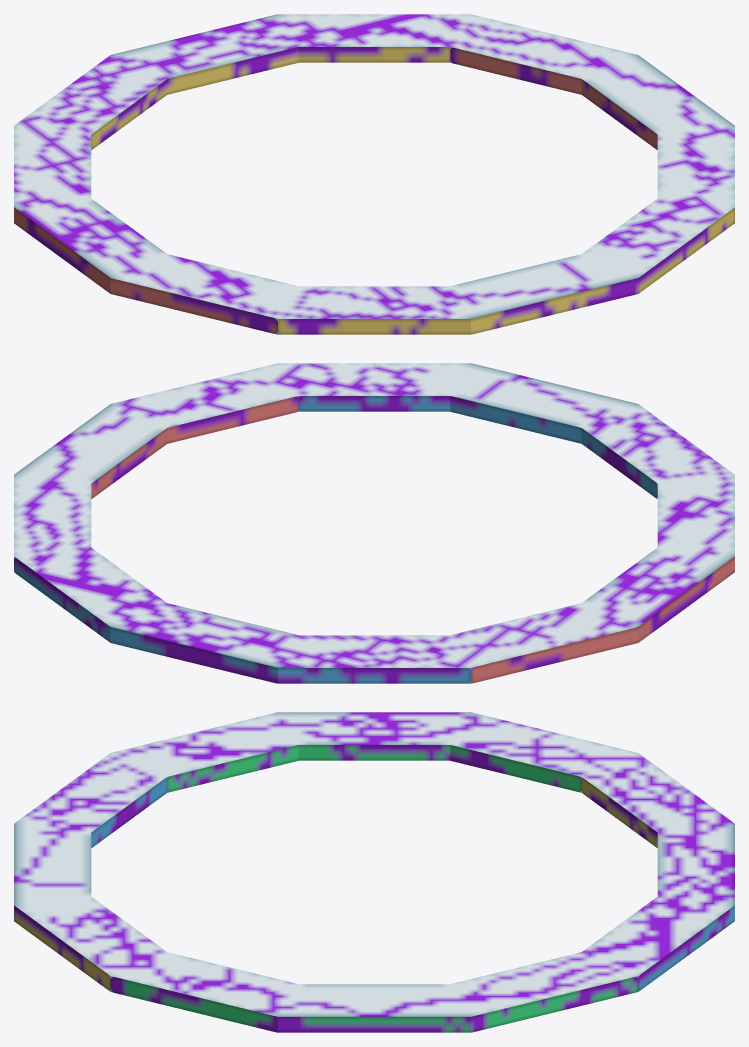
Rendered from Plataform2.obj.
The picture shows the model from 3 angles, top to bottom: view 1: azimuth 30°, elevation 25°; view 2: azimuth 150°, elevation 25°; view 3: azimuth 270°, elevation 25°; orthographic projection.
Visible parts, largest first — view 1: tube; view 2: tube; view 3: tube.
Boxes of the visible parts, <box> form: tube: <box>14,14,734,334</box>; tube: <box>14,363,734,683</box>; tube: <box>14,712,734,1032</box>.
Bounding box in the file's own units: 5.12 × 0.125 × 5.12.
